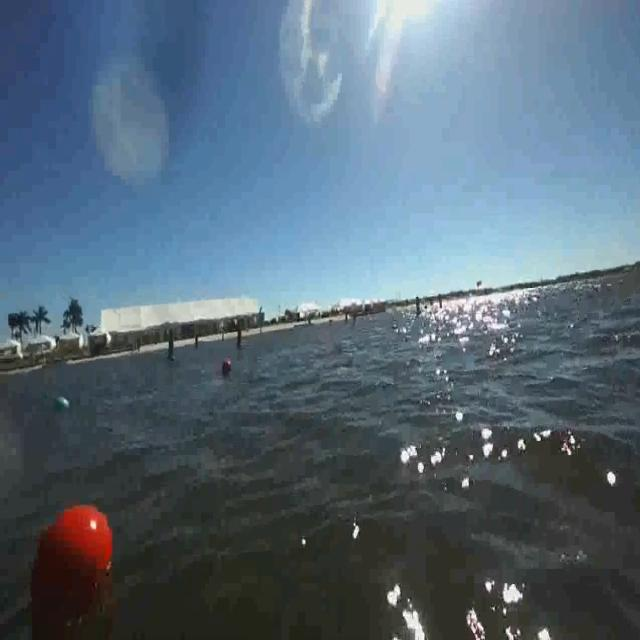black-buoy: (223, 359, 230, 372)
green-buoy: (55, 397, 69, 411)
green-column-buoy: (164, 328, 175, 362)
red-buoy: (37, 504, 113, 580)
